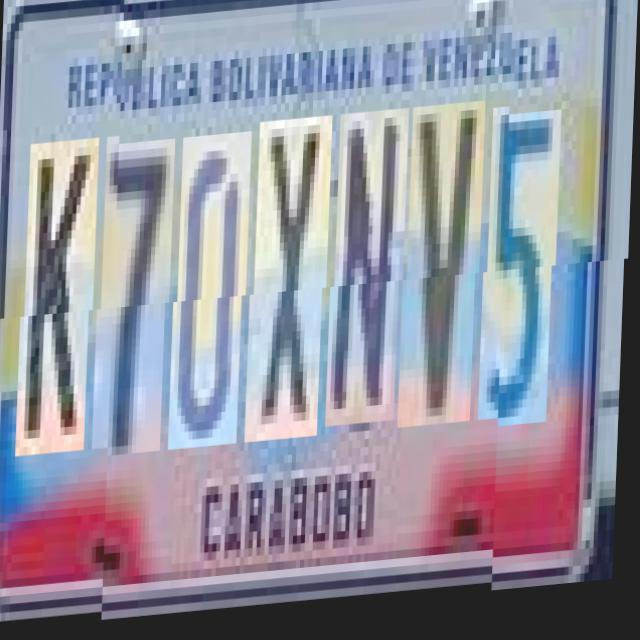0: (176, 136, 253, 454)
5: (486, 113, 564, 430)
7: (99, 143, 177, 460)
K: (23, 148, 100, 465)
N: (332, 116, 410, 433)
V: (405, 110, 487, 436)
X: (252, 122, 334, 447)
